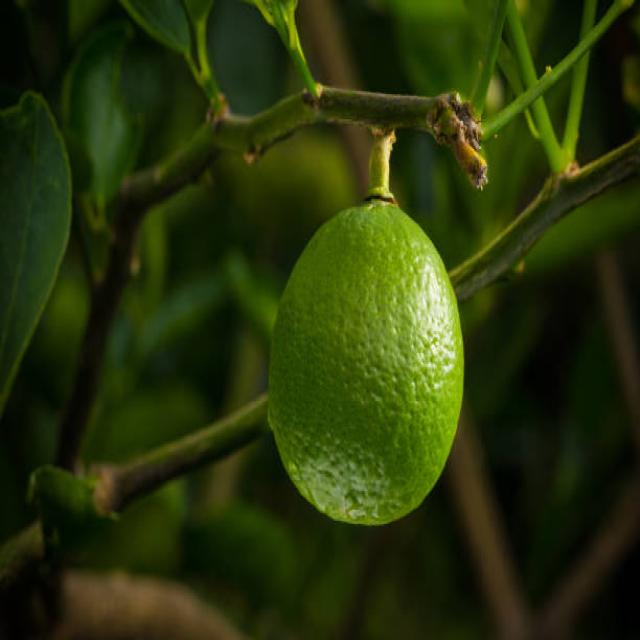Unripe: (266, 199, 465, 527)
